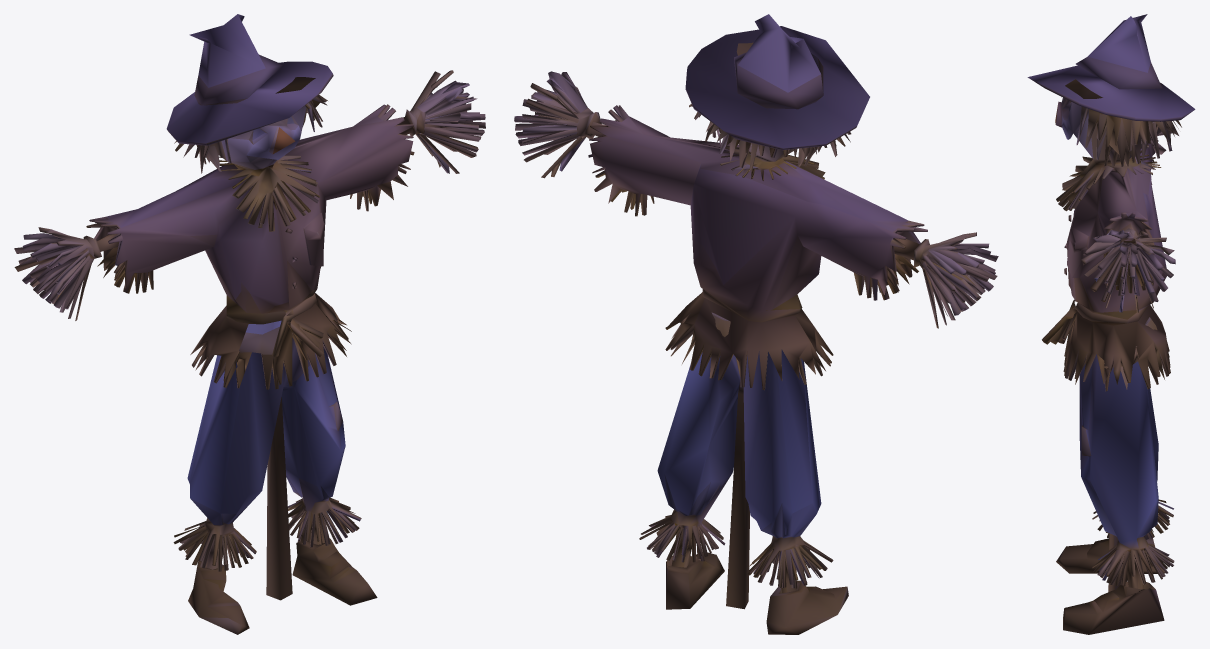
Rendered from model.progressive.glb.
3 renders of one model, left to right at view 1: azimuth 30°, elevation 25°; view 2: azimuth 150°, elevation 25°; view 3: azimuth 270°, elevation 25°, orthographic. The views are drawn at different scales.
Visible parts, largest first — view 1: material; view 2: material; view 3: material.
Part boxes in pixels (box(x1,y1,x2,y2)): material: box(14, 14, 485, 634); material: box(514, 14, 998, 634); material: box(1027, 14, 1195, 634).
Bounding box in the file's own units: 1.51 × 1.89 × 0.5077.
Materials: 1 (1 with a texture image).
